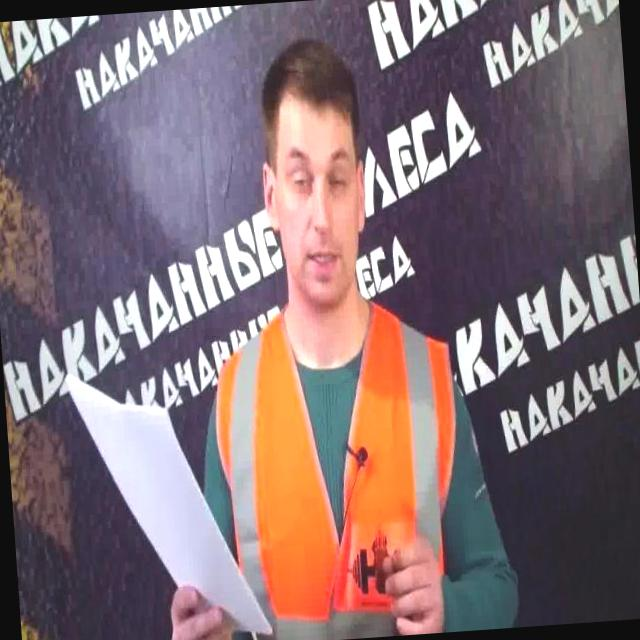vest: (207, 291, 474, 640)
